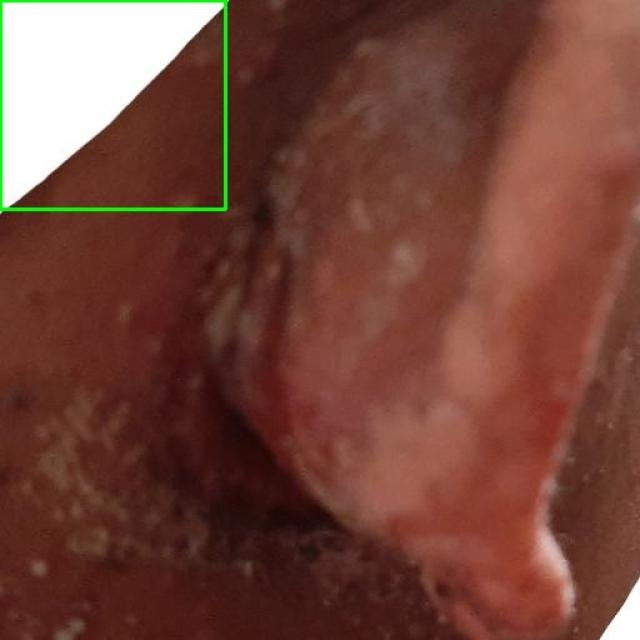Contact Dermatitis: (0, 0, 225, 209)
